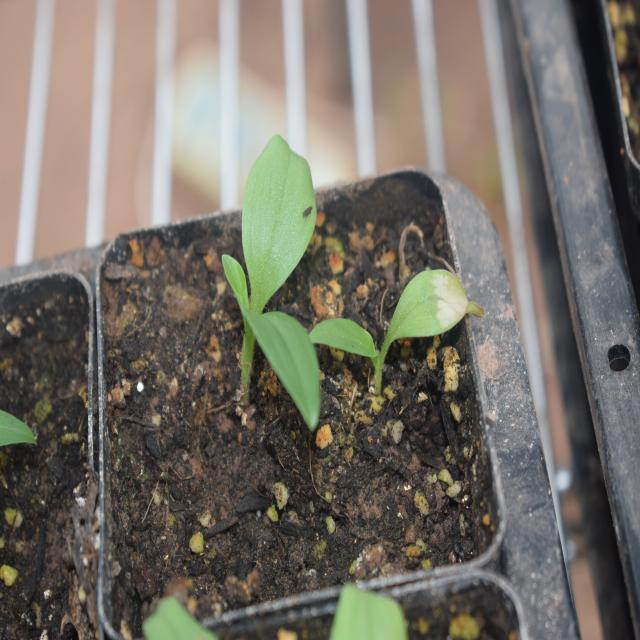Common Dayflower: (222, 146, 343, 413)
